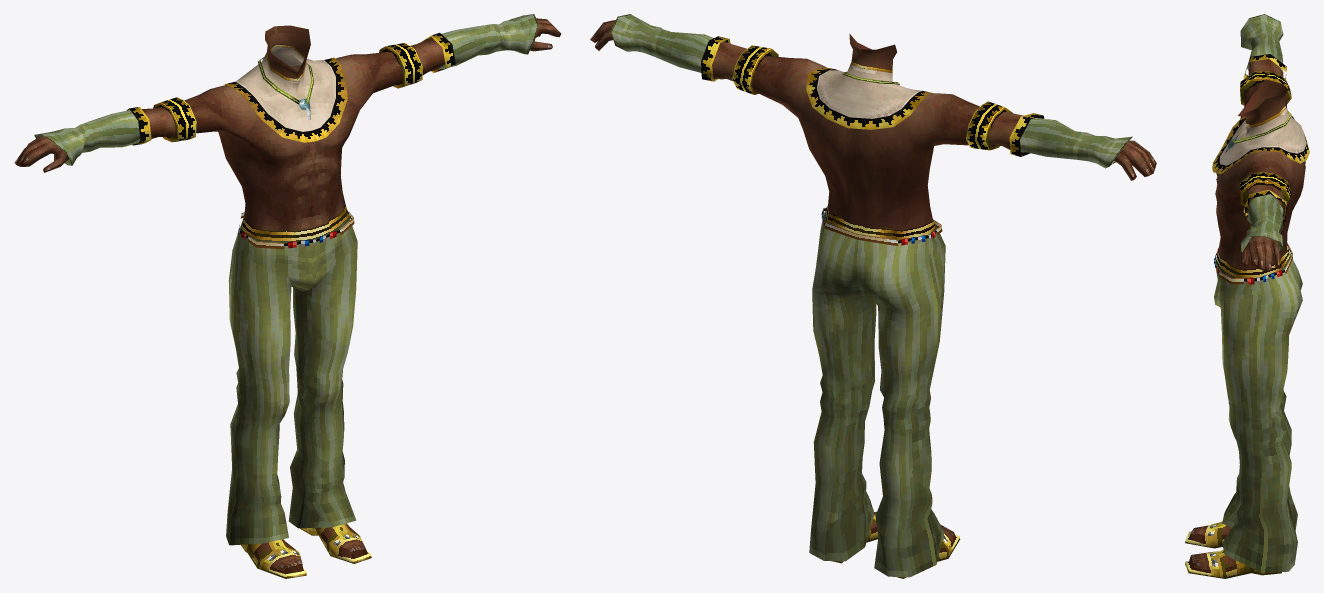
The model's file is body_13.obj.
The picture shows the model from 3 angles, left to right: view 1: azimuth 30°, elevation 25°; view 2: azimuth 150°, elevation 25°; view 3: azimuth 270°, elevation 25°; orthographic projection. The views are drawn at different scales.
Visible parts, largest first — view 1: editpl_m-0000-92, editpl_m-0000-91, editpl_m-0000-90; view 2: editpl_m-0000-92, editpl_m-0000-91, editpl_m-0000-90; view 3: editpl_m-0000-92, editpl_m-0000-91, editpl_m-0000-90.
Boxes of the visible parts, x1=… form: editpl_m-0000-92: x1=226, y1=205, x2=371, y2=578; editpl_m-0000-91: x1=184, y1=25, x2=402, y2=231; editpl_m-0000-90: x1=14, y1=14, x2=561, y2=172; editpl_m-0000-92: x1=809, y1=205, x2=960, y2=578; editpl_m-0000-91: x1=752, y1=34, x2=979, y2=230; editpl_m-0000-90: x1=590, y1=14, x2=1156, y2=180; editpl_m-0000-92: x1=1185, y1=242, x2=1302, y2=578; editpl_m-0000-91: x1=1212, y1=79, x2=1309, y2=269; editpl_m-0000-90: x1=1240, y1=14, x2=1291, y2=270.
Size of the model in its own units: 177 by 158 by 38.31.
Materials: 3 (3 with a texture image).
